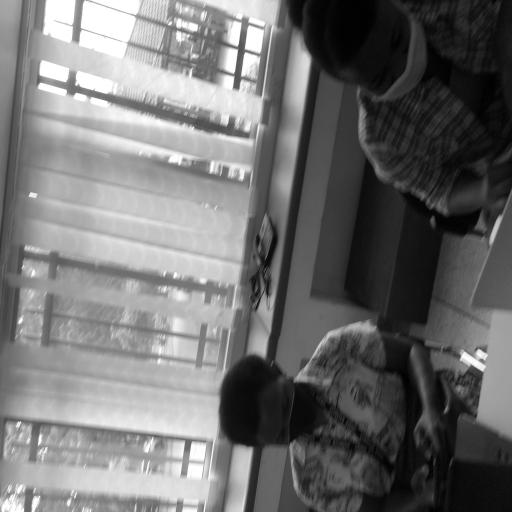mask: (363, 15, 427, 102), (259, 376, 320, 448)
